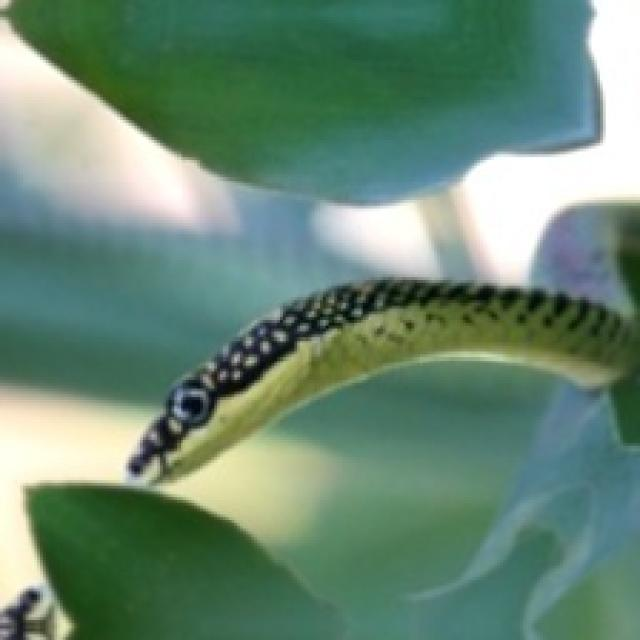paradise tree snake: (129, 280, 637, 480)
